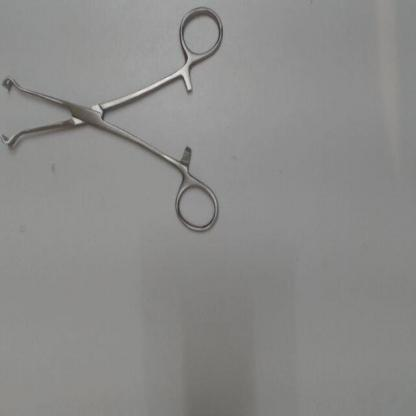Babcock Tissue Forceps: (1, 4, 227, 240)
